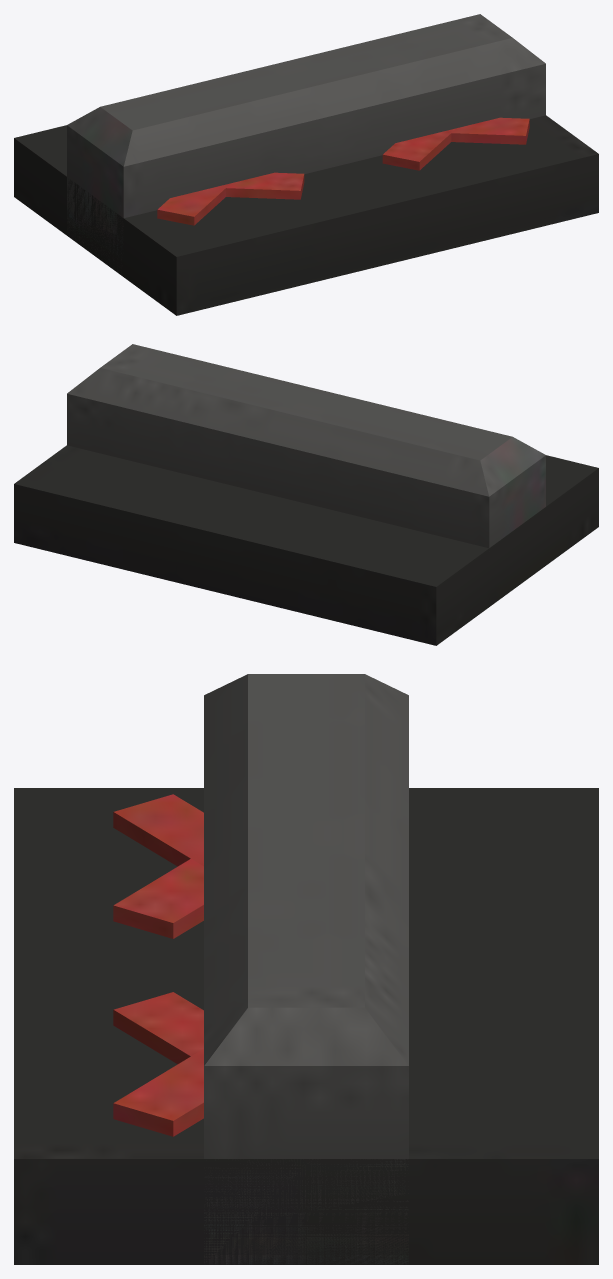
File: fast-splitter.glb
3 renders of one model, top to bottom at view 1: azimuth 30°, elevation 25°; view 2: azimuth 150°, elevation 25°; view 3: azimuth 270°, elevation 25°, orthographic. The views are drawn at different scales.
Parts seen in each view (by area): view 1: fast-splitter; view 2: fast-splitter; view 3: fast-splitter.
Part boxes in pixels (<box>): fast-splitter: <box>14,14,598,315</box>; fast-splitter: <box>14,344,598,645</box>; fast-splitter: <box>14,674,598,1264</box>.
Bounding box in the file's own units: 0.3 × 0.09 × 0.2.
Materials: 1 (1 with a texture image).
